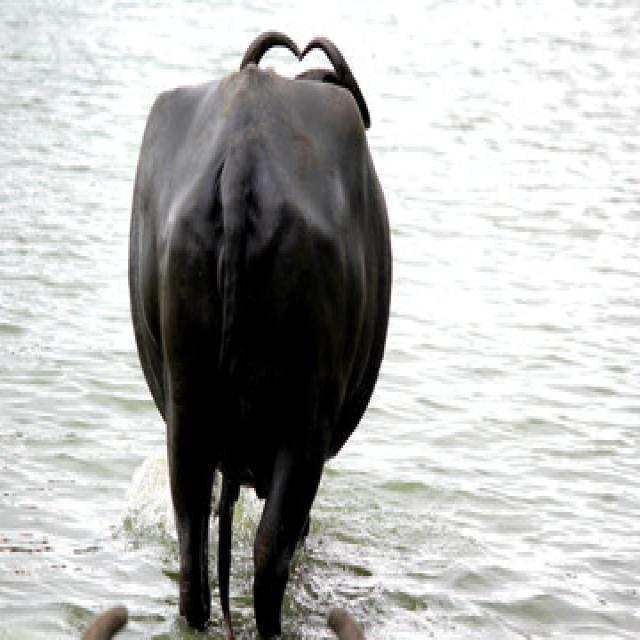Buffalo: (125, 24, 395, 640)
